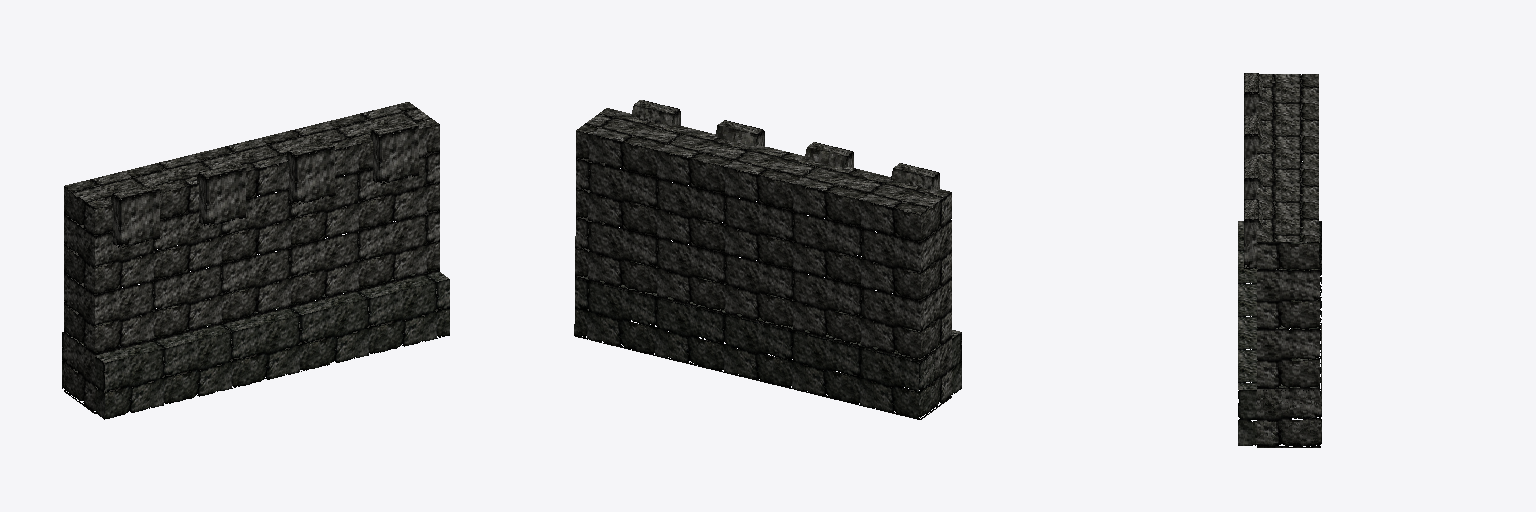
3 views of the same model, side by side, from view 1: azimuth 30°, elevation 25°; view 2: azimuth 150°, elevation 25°; view 3: azimuth 270°, elevation 25° (orthographic).
Parts seen in each view (by area): view 1: Mesh_0, Mesh_1; view 2: Mesh_0, Mesh_1; view 3: Mesh_0, Mesh_1.
Part boxes in pixels (bbox=[...]): Mesh_0: bbox=[64, 102, 439, 413]; Mesh_1: bbox=[62, 255, 449, 419]; Mesh_0: bbox=[575, 100, 951, 419]; Mesh_1: bbox=[574, 261, 961, 419]; Mesh_0: bbox=[1244, 73, 1320, 447]; Mesh_1: bbox=[1238, 221, 1321, 445].
Size of the model in its own units: 3.98 by 2.38 by 0.8489.
Materials: 2 (2 with a texture image).